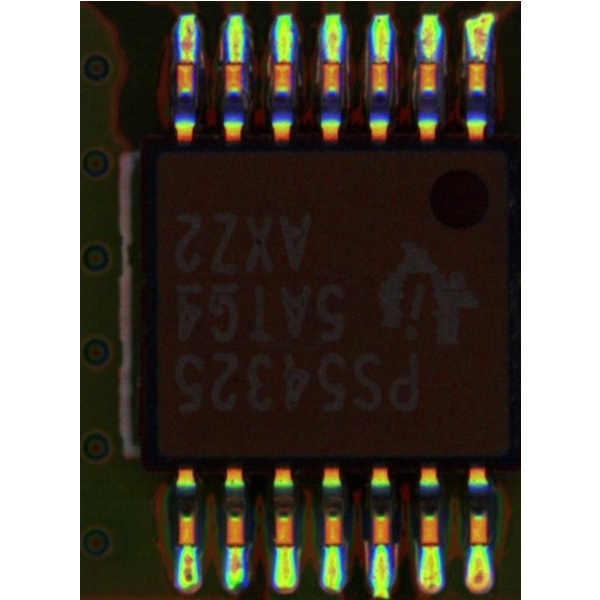Bad_podu: (280, 531, 290, 566), (230, 42, 239, 76), (183, 46, 192, 73)
